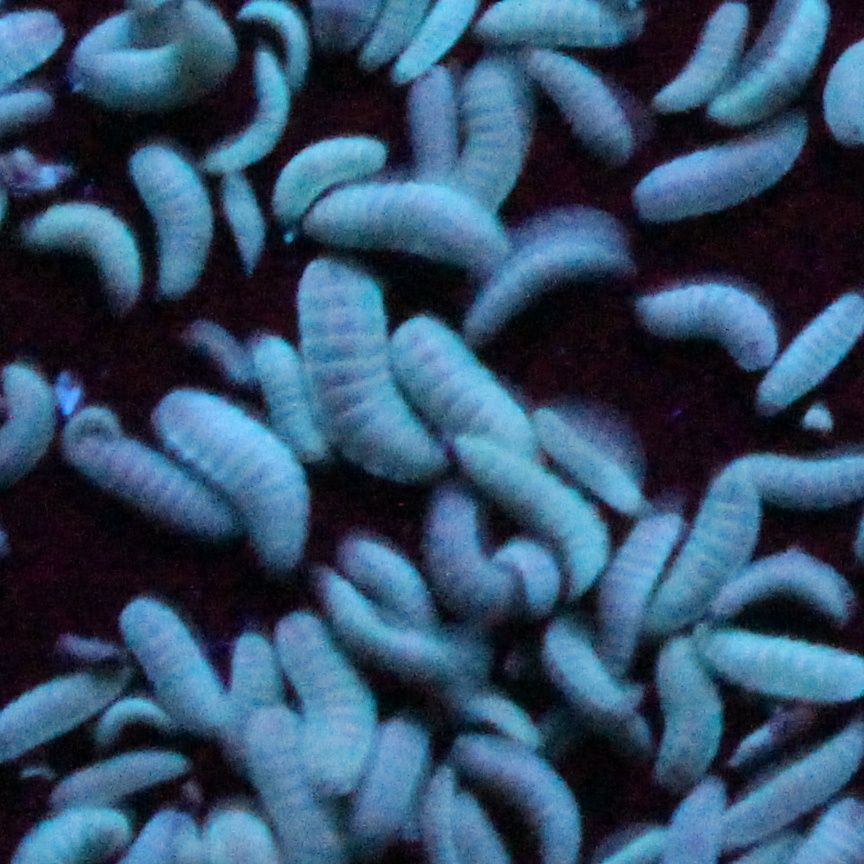larve: (297, 253, 447, 480), (151, 385, 317, 573), (442, 419, 613, 594), (381, 317, 547, 457), (622, 117, 817, 223), (647, 462, 770, 621), (70, 419, 238, 535), (274, 610, 376, 798), (315, 567, 472, 680), (122, 130, 217, 307), (308, 187, 513, 269), (124, 592, 231, 742), (631, 273, 792, 369), (472, 223, 613, 328), (597, 514, 685, 673), (522, 46, 647, 155), (535, 621, 649, 735), (35, 198, 151, 305), (710, 546, 860, 626), (540, 405, 647, 517), (347, 719, 442, 844), (431, 482, 522, 612), (267, 132, 390, 217), (651, 639, 722, 782), (213, 46, 288, 180), (254, 335, 326, 471), (333, 528, 438, 617), (45, 744, 185, 807), (208, 160, 267, 273), (460, 680, 540, 751), (242, 1, 313, 78), (215, 628, 285, 703), (499, 542, 565, 612), (97, 694, 172, 742)
